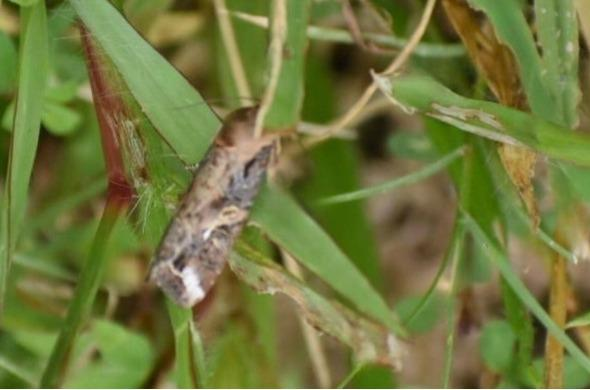army worm adult: (143, 57, 306, 325)
